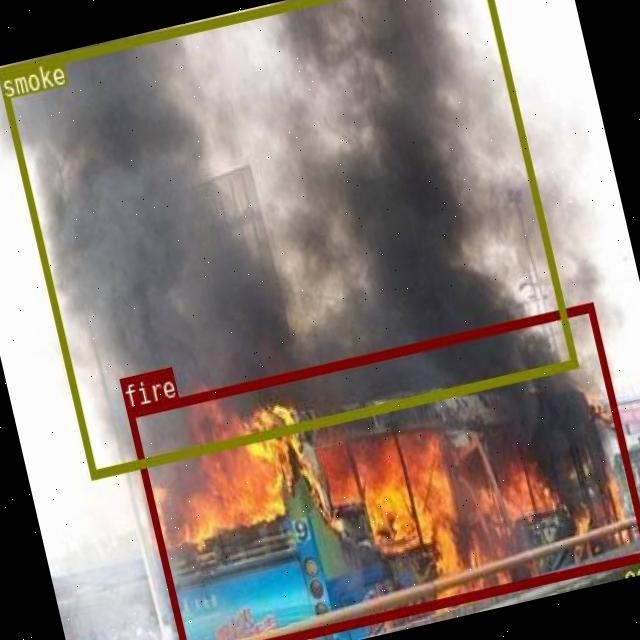fire: (126, 300, 640, 640)
smoke: (0, 0, 576, 477)
